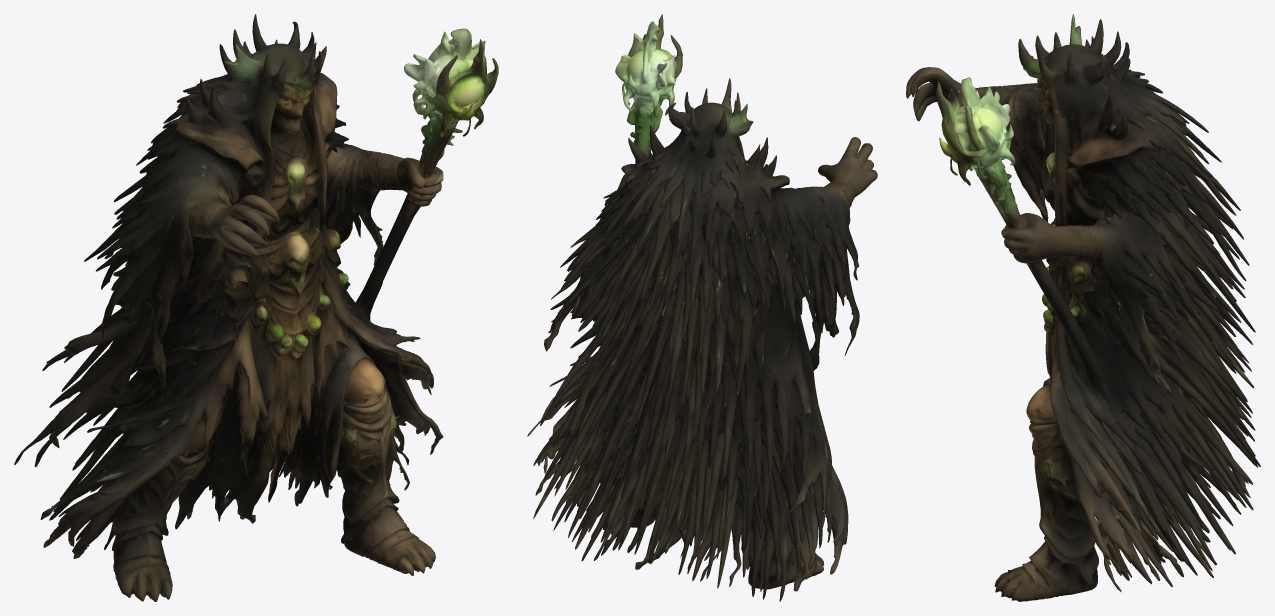
The model's file is lich.glb.
The picture shows the model from 3 angles, left to right: view 1: azimuth 30°, elevation 25°; view 2: azimuth 150°, elevation 25°; view 3: azimuth 270°, elevation 25°; orthographic projection. The views are drawn at different scales.
Parts seen in each view (by area): view 1: material; view 2: material; view 3: material.
Boxes of the visible parts, x1=… form: material: x1=14, y1=14, x2=498, y2=601; material: x1=527, y1=14, x2=877, y2=601; material: x1=906, y1=14, x2=1260, y2=601.
Bounding box in the file's own units: 0.7264 × 0.9935 × 0.6057.
1 material, 1 textured.
